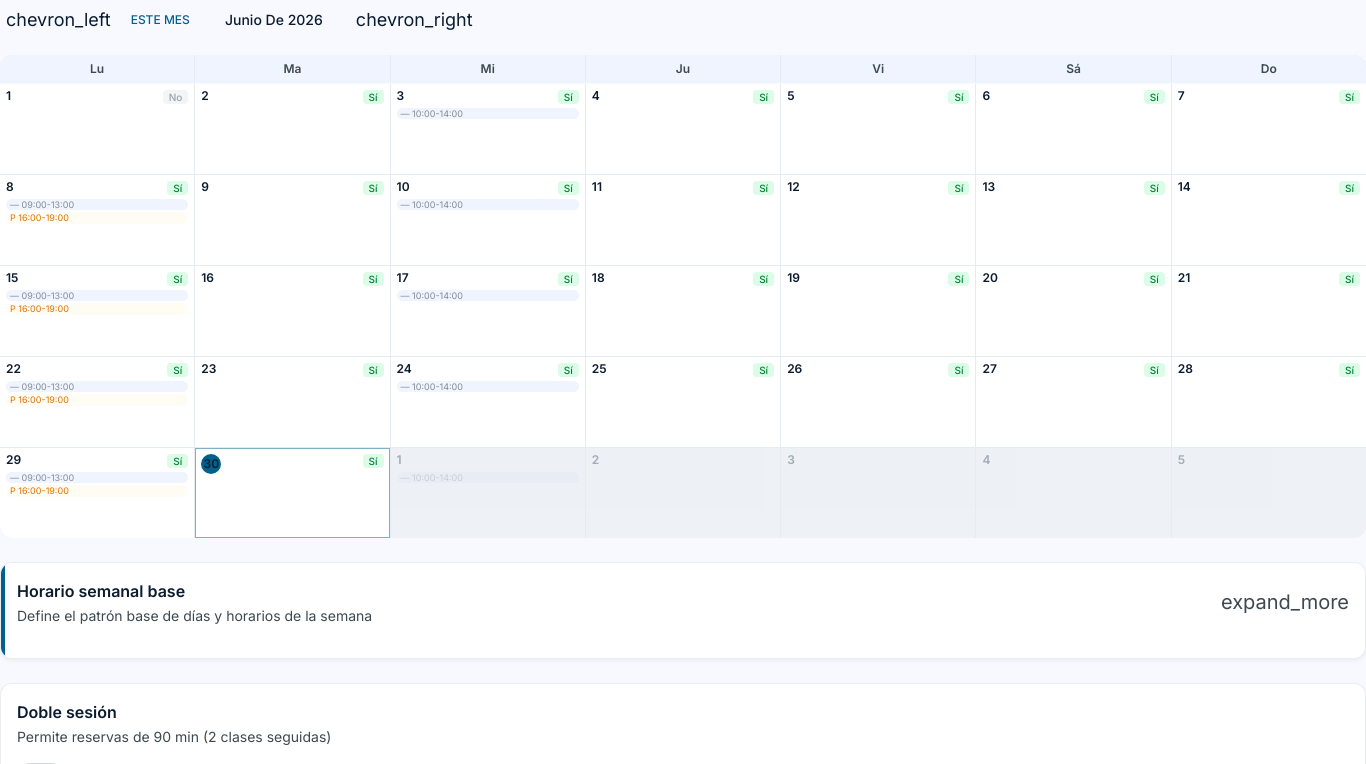
Test: TeacherSchedule › expands weekly template on click
The image size is (1366, 764).
Click the heading "Horario semanal base" at coordinates (101, 591), box [17, 581, 185, 601]
(page scrolled)
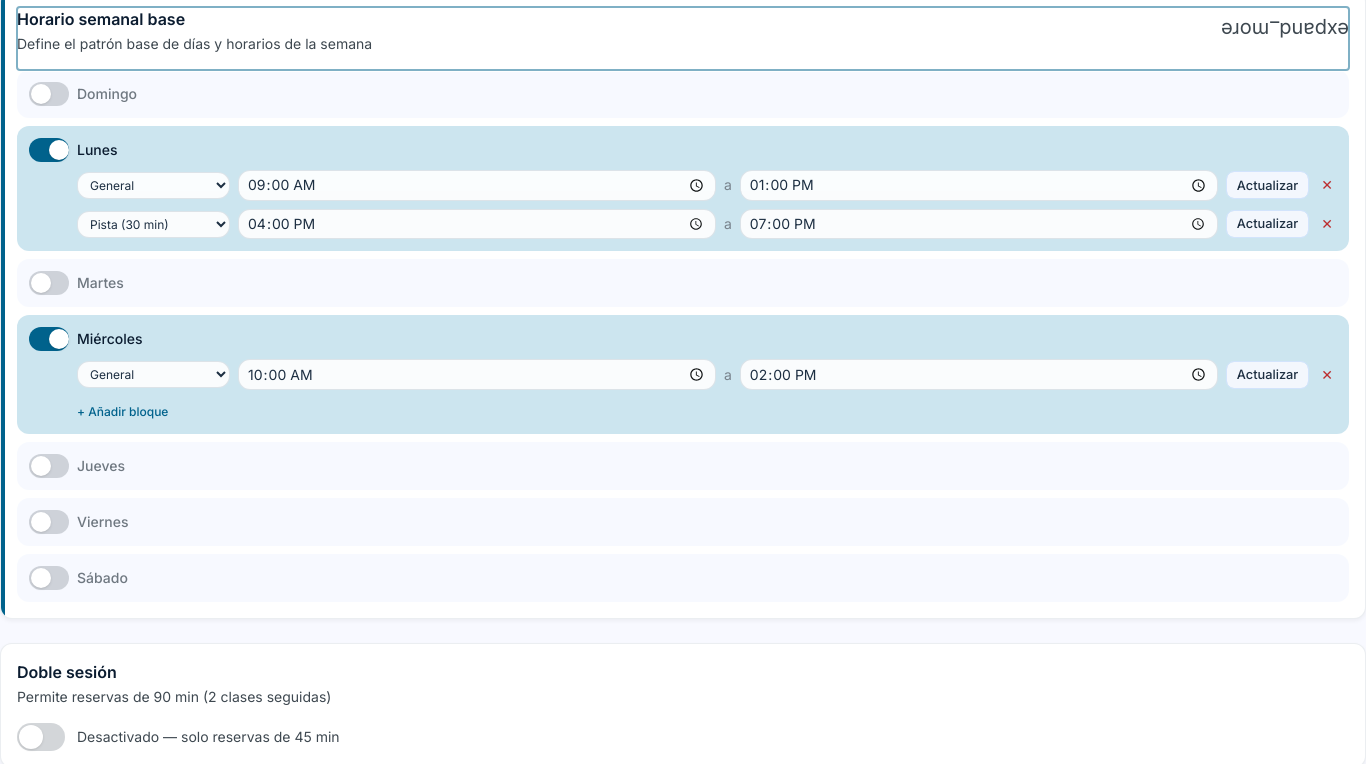
Expected: the text "Domingo" is shown, [77, 85, 137, 102]
Expected: the text "Lunes" is shown, [77, 141, 118, 158]
Expected: the text "Sábado" is shown, [77, 569, 128, 586]
